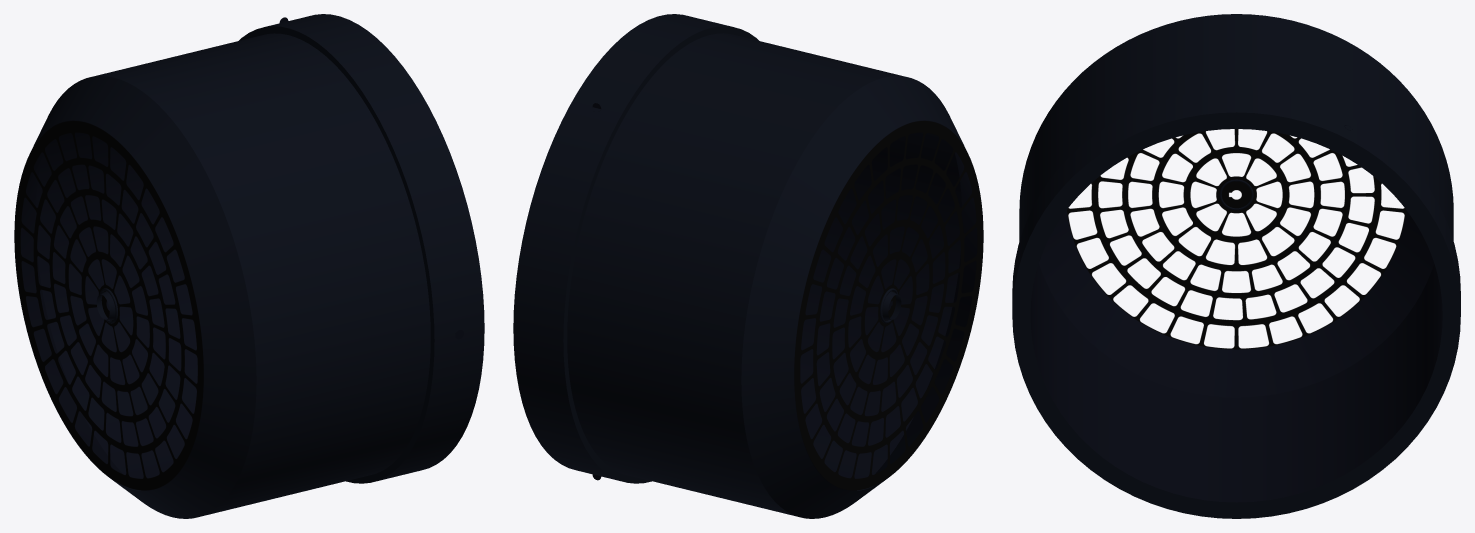
The model's file is motor-cover-procedural-black.glb.
3 renders of one model, left to right at view 1: azimuth 30°, elevation 25°; view 2: azimuth 150°, elevation 25°; view 3: azimuth 270°, elevation 25°, orthographic. The views are drawn at different scales.
Parts seen in each view (by area): view 1: front-cone, front-cone-inner, grille-net-disc; view 2: front-cone, front-cone-inner, grille-net-disc; view 3: front-cone-inner, front-cone, grille-net-disc.
Boxes of the visible parts, x1,y1,x2,y2 form: front-cone: (14,14,484,518); front-cone-inner: (20,17,463,490); grille-net-disc: (14,121,203,490); front-cone: (513,14,983,518); front-cone-inner: (592,103,977,490); grille-net-disc: (794,121,983,490); front-cone-inner: (1012,125,1442,502); front-cone: (1012,14,1460,518); grille-net-disc: (1067,129,1406,349).
Size of the model in its own units: 1.32 by 2.02 by 2.02.
3 materials, 1 textured.
